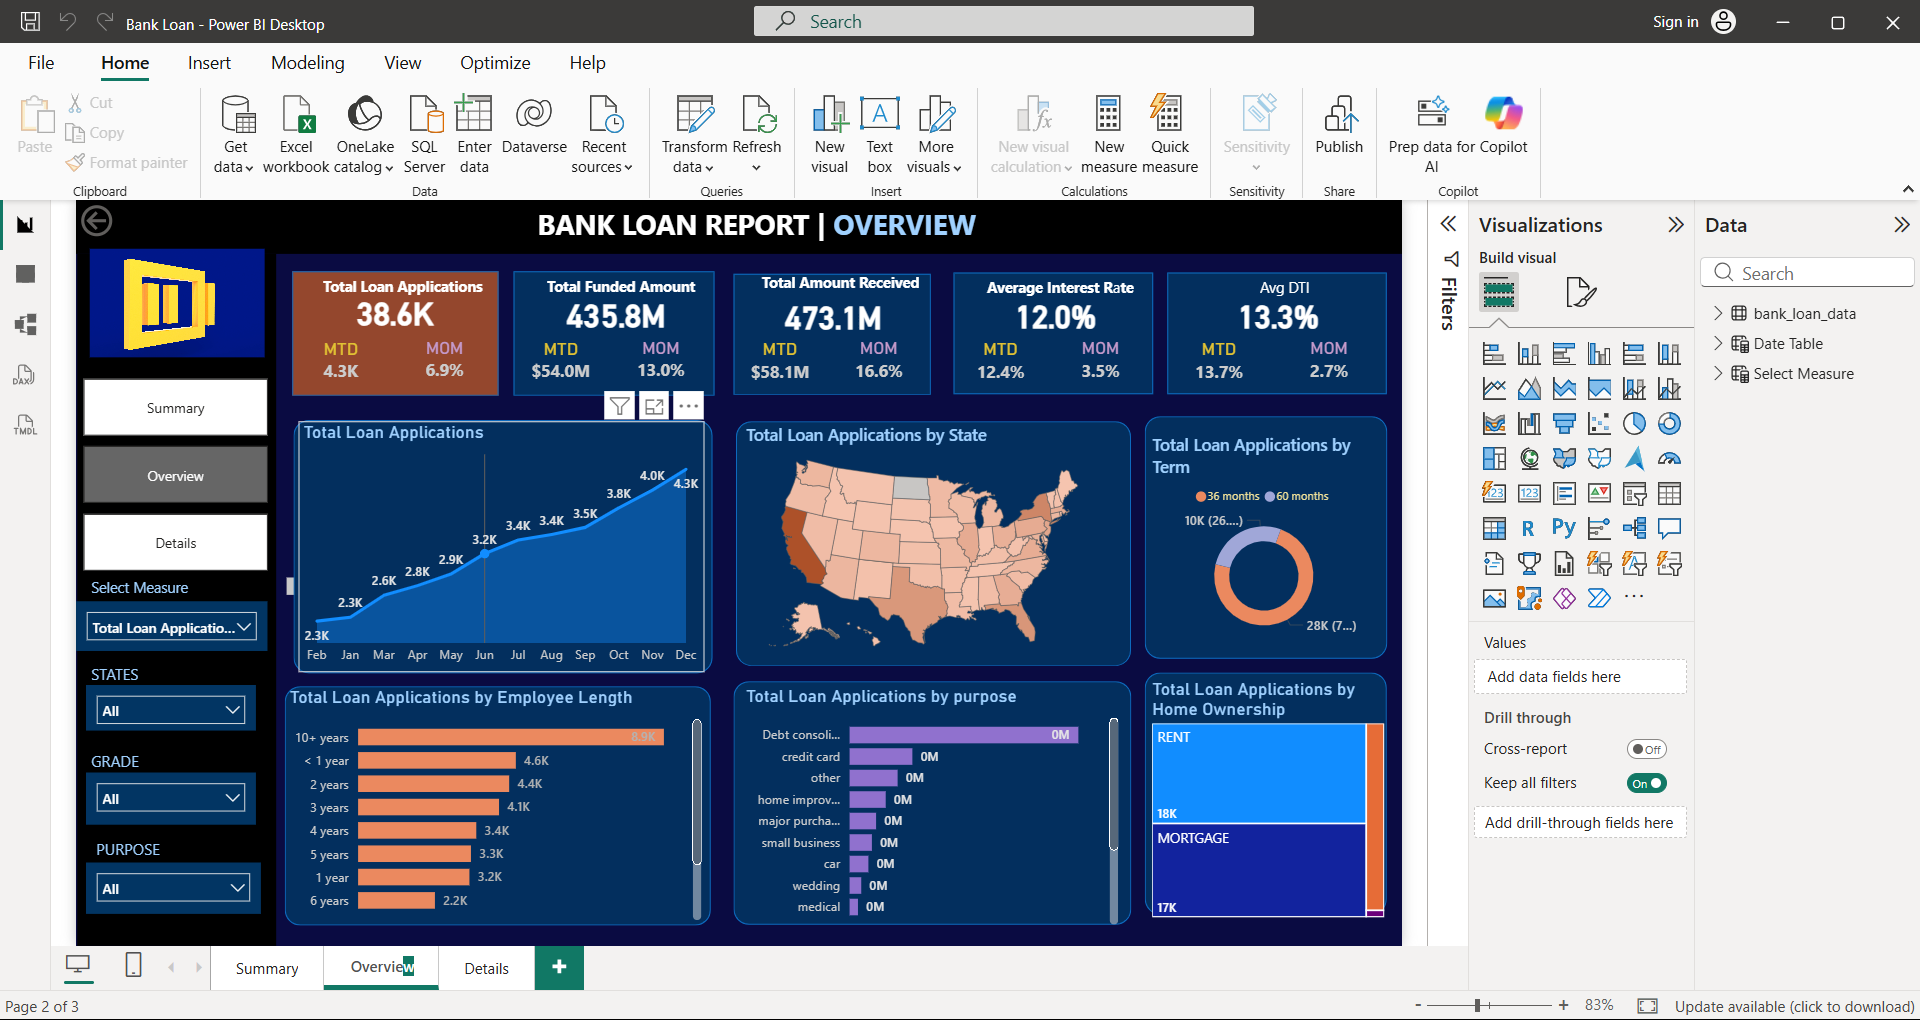

This screenshot's page, from the dashboard's own definition file:
{"tool":"powerbi","page":{"name":"Overview","canvas":[1280,720],"ordinal":1},"visuals":[{"type":"shape","box":[0,0,1280.3,52.1],"z":0},{"type":"shape","box":[209.1,68.3,199.1,120.2],"z":0,"group":"g1"},{"type":"shape","box":[422.2,68.3,194,120.2],"z":0,"group":"g2"},{"type":"shape","box":[847.1,69.7,192.7,117.5],"z":0,"group":"g4"},{"type":"shape","box":[1053.5,69.7,211.9,117.5],"z":0,"group":"g5"},{"type":"shape","box":[634.3,71.4,190.5,117.2],"z":0,"group":"g3"},{"type":"shape","box":[1031.6,456.4,233.6,233.6],"z":0,"group":"g8"},{"type":"shape","box":[1.4,52.1,192.1,668.3],"z":1000},{"type":"card","fields":{"Values":["bank_loan_data.Total Loan Applications"]},"box":[237.1,75.4,143,65.1],"z":1000,"group":"g1"},{"type":"card","fields":{"Values":["bank_loan_data.TOTAL FUNDED AMOUNT"]},"box":[444.7,81.6,152.1,56.6],"z":1000,"group":"g2"},{"type":"card","fields":{"Values":["bank_loan_data.AVG INTEREST RATE"]},"box":[869.4,82.7,151.1,55.3],"z":1000,"group":"g4"},{"type":"card","fields":{"Values":["bank_loan_data.Total Funded Amount"]},"box":[1078.1,82.7,166.1,55.3],"z":1000,"group":"g5"},{"type":"card","fields":{"Values":["bank_loan_data.TOTAL RECIEVED AMOUNT"]},"box":[656.4,84.3,149.4,55.1],"z":1000,"group":"g3"},{"type":"treemap","fields":{"Values":["bank_loan_data.Total Loan Applications"],"Group":["bank_loan_data.home_ownership"]},"box":[1033.5,462.7,233.6,235],"z":1000,"group":"g8"},{"type":"textbox","box":[628.5,65.6,218.6,35.2],"z":2000,"group":"g3"},{"type":"textbox","box":[209.1,68.3,213.2,39.6],"z":2000,"group":"g1"},{"type":"textbox","box":[422.2,68.3,207.7,39.6],"z":2000,"group":"g2"},{"type":"textbox","box":[847.1,69.7,206.3,38.7],"z":2000,"group":"g4"},{"type":"textbox","box":[1053.5,69.7,226.8,38.7],"z":2000,"group":"g5"},{"type":"textbox","box":[9.6,359.4,206.3,27.3],"z":2000},{"type":"shape","box":[634,464.6,383.9,235],"z":2000,"group":"g9"},{"type":"textbox","box":[440.5,0,481.6,52.1],"z":3000},{"type":"card","title":"MTD","fields":{"Values":["bank_loan_data.MTD AVG INT RATE"]},"box":[847.1,133.3,90.9,45.6],"z":3000,"group":"g4"},{"type":"card","title":"MTD","fields":{"Values":["bank_loan_data.MTD AVG DTI"]},"box":[1053.5,133.3,100,45.6],"z":3000,"group":"g5"},{"type":"card","title":"MTD","fields":{"Values":["bank_loan_data.MTD LOAN APPLICATIONS"]},"box":[209.1,133.4,94,46.7],"z":3000,"group":"g1"},{"type":"card","title":"MTD","fields":{"Values":["bank_loan_data.MTD FUNDED AMOUNT"]},"box":[422.2,133.4,91.5,46.7],"z":3000,"group":"g2"},{"type":"card","title":"MTD","fields":{"Values":["bank_loan_data.MTD TOTAL Recieved  AMOUNT"]},"box":[634.3,134.8,89.9,45.5],"z":3000,"group":"g3"},{"type":"group","id":"g1","title":"Group 1","box":[209.1,68.3,213.2,120.2],"z":4000},{"type":"card","title":"MOM","fields":{"Values":["bank_loan_data.MOM AVG INT T"]},"box":[943.5,131.9,90.9,45.6],"z":4000,"group":"g4"},{"type":"card","title":"MOM","fields":{"Values":["bank_loan_data.MOM AVG DTI"]},"box":[1159.4,131.9,100,45.6],"z":4000,"group":"g5"},{"type":"card","title":"MOM","fields":{"Values":["bank_loan_data.MOM LOAN APPLICATIONS"]},"box":[308.7,132,94,46.7],"z":4000,"group":"g1"},{"type":"card","title":"MOM","fields":{"Values":["bank_loan_data.MOM FUNDED AMOUNT"]},"box":[519.2,132,91.5,46.7],"z":4000,"group":"g2"},{"type":"card","title":"MOM","fields":{"Values":["bank_loan_data.MOM received AMOUNT"]},"box":[729.6,133.4,89.9,45.5],"z":4000,"group":"g3"},{"type":"group","id":"g2","title":"Group 1","box":[422.2,68.3,207.7,120.2],"z":5000},{"type":"group","id":"g3","title":"Group 1","box":[628.5,65.6,218.6,123],"z":6000},{"type":"group","id":"g4","title":"Group 1","box":[847.1,69.7,206.3,117.5],"z":7000},{"type":"group","id":"g5","title":"Group 1","box":[1053.5,69.7,226.8,117.5],"z":8000},{"type":"actionButton","box":[0,0,100,40],"z":9000},{"type":"slicer","fields":{"Values":["bank_loan_data.address_state"]},"box":[9.6,468.7,164,43.7],"z":10000},{"type":"textbox","box":[9.6,442.7,82,69.7],"z":11000},{"type":"textbox","box":[9.6,526,103.8,61.5],"z":12000},{"type":"shape","box":[210.4,211.8,404.4,244.6],"z":13000},{"type":"slicer","fields":{"Values":["bank_loan_data.grade"]},"box":[9.6,552,164,50.6],"z":14000},{"type":"slicer","fields":{"Values":["bank_loan_data.purpose"]},"box":[9.6,639.5,168.8,49.4],"z":15000},{"type":"textbox","box":[15,612.1,84.7,42.4],"z":16000},{"type":"areaChart","fields":{"Y":["bank_loan_data.Total Loan Applications"],"Category":["Date Table.MONTH"]},"box":[214.5,213.2,392.1,243.2],"z":17000},{"type":"slicer","fields":{"Values":["Select Measure.Select Measure"]},"box":[0,386.7,184.5,47.8],"z":18000},{"type":"group","id":"g6","title":"Group 2","box":[1031.6,209.1,233.6,235],"z":19000},{"type":"shape","box":[636.6,213,381.2,236.4],"z":19000,"group":"g7"},{"type":"group","id":"g7","title":"Group 3","box":[636.6,213,381.2,236.4],"z":20000},{"type":"shapeMap","fields":{"Value":["bank_loan_data.Total Loan Applications"],"Category":["bank_loan_data.address_state"]},"box":[641.3,214.7,352.5,230.9],"z":20000,"group":"g7"},{"type":"shape","box":[1031.6,209.1,234,234],"z":21000,"group":"g6"},{"type":"group","id":"g8","title":"Group 4","box":[1031.6,456.4,235.6,241.3],"z":21000},{"type":"donutChart","fields":{"Y":["bank_loan_data.Total Loan Applications"],"Category":["bank_loan_data.term"]},"box":[1034.6,225,225.4,206.3],"z":22000,"group":"g6"},{"type":"group","id":"g9","title":"Group 5","box":[634,464.6,383.9,240.5],"z":22000},{"type":"group","id":"g10","title":"Group 6","box":[201.1,469.3,411.3,230.9],"z":23000},{"type":"shape","box":[201.1,469.3,411.3,230.9],"z":23000,"group":"g10"},{"type":"pageNavigator","box":[6.8,172.2,179,187.2],"z":24000},{"type":"image","box":[13.3,47.1,168.9,105],"z":25000},{"type":"barChart","fields":{"Y":["bank_loan_data.Total Loan Applications"],"Category":["bank_loan_data.emp_length"]},"box":[201.1,469.3,407.2,230.9],"z":25000,"group":"g10"},{"type":"barChart","fields":{"Y":["bank_loan_data.Total Loan Applications"],"Category":["bank_loan_data.purpose"]},"box":[641.4,468.7,369.2,236.4],"z":26000,"group":"g9"}]}

Visuals, with their boxes on the page's 1280x720 design canvas (x1, y1, x2, y2). These are canvas units, not pixel positions in the 1920x1020 screenshot, which may show the page scaled, cropped or inside an application window:
shape: [0,0,1280,52]
shape: [209,68,408,188]
shape: [422,68,616,188]
shape: [847,70,1040,187]
shape: [1054,70,1265,187]
shape: [634,71,825,189]
shape: [1032,456,1265,690]
shape: [1,52,194,720]
card - bank_loan_data.Total Loan Applications: [237,75,380,140]
card - bank_loan_data.TOTAL FUNDED AMOUNT: [445,82,597,138]
card - bank_loan_data.AVG INTEREST RATE: [869,83,1020,138]
card - bank_loan_data.Total Funded Amount: [1078,83,1244,138]
card - bank_loan_data.TOTAL RECIEVED AMOUNT: [656,84,806,139]
treemap - bank_loan_data.Total Loan Applications x bank_loan_data.home_ownership: [1034,463,1267,698]
textbox: [628,66,847,101]
textbox: [209,68,422,108]
textbox: [422,68,630,108]
textbox: [847,70,1053,108]
textbox: [1054,70,1280,108]
textbox: [10,359,216,387]
shape: [634,465,1018,700]
textbox: [440,0,922,52]
"MTD" card: [847,133,938,179]
"MTD" card: [1054,133,1154,179]
"MTD" card: [209,133,303,180]
"MTD" card: [422,133,514,180]
"MTD" card: [634,135,724,180]
"Group 1" group: [209,68,422,188]
"MOM" card: [944,132,1034,178]
"MOM" card: [1159,132,1259,178]
"MOM" card: [309,132,403,179]
"MOM" card: [519,132,611,179]
"MOM" card: [730,133,820,179]
"Group 1" group: [422,68,630,188]
"Group 1" group: [628,66,847,189]
"Group 1" group: [847,70,1053,187]
"Group 1" group: [1054,70,1280,187]
actionButton: [0,0,100,40]
slicer - bank_loan_data.address_state: [10,469,174,512]
textbox: [10,443,92,512]
textbox: [10,526,113,588]
shape: [210,212,615,456]
slicer - bank_loan_data.grade: [10,552,174,603]
slicer - bank_loan_data.purpose: [10,640,178,689]
textbox: [15,612,100,654]
areaChart - bank_loan_data.Total Loan Applications x Date Table.MONTH: [214,213,607,456]
slicer - Select Measure.Select Measure: [0,387,184,434]
"Group 2" group: [1032,209,1265,444]
shape: [637,213,1018,449]
"Group 3" group: [637,213,1018,449]
shapeMap - bank_loan_data.Total Loan Applications x bank_loan_data.address_state: [641,215,994,446]
shape: [1032,209,1266,443]
"Group 4" group: [1032,456,1267,698]
donutChart - bank_loan_data.Total Loan Applications x bank_loan_data.term: [1035,225,1260,431]
"Group 5" group: [634,465,1018,705]
"Group 6" group: [201,469,612,700]
shape: [201,469,612,700]
pageNavigator: [7,172,186,359]
image: [13,47,182,152]
barChart - bank_loan_data.Total Loan Applications x bank_loan_data.emp_length: [201,469,608,700]
barChart - bank_loan_data.Total Loan Applications x bank_loan_data.purpose: [641,469,1011,705]
